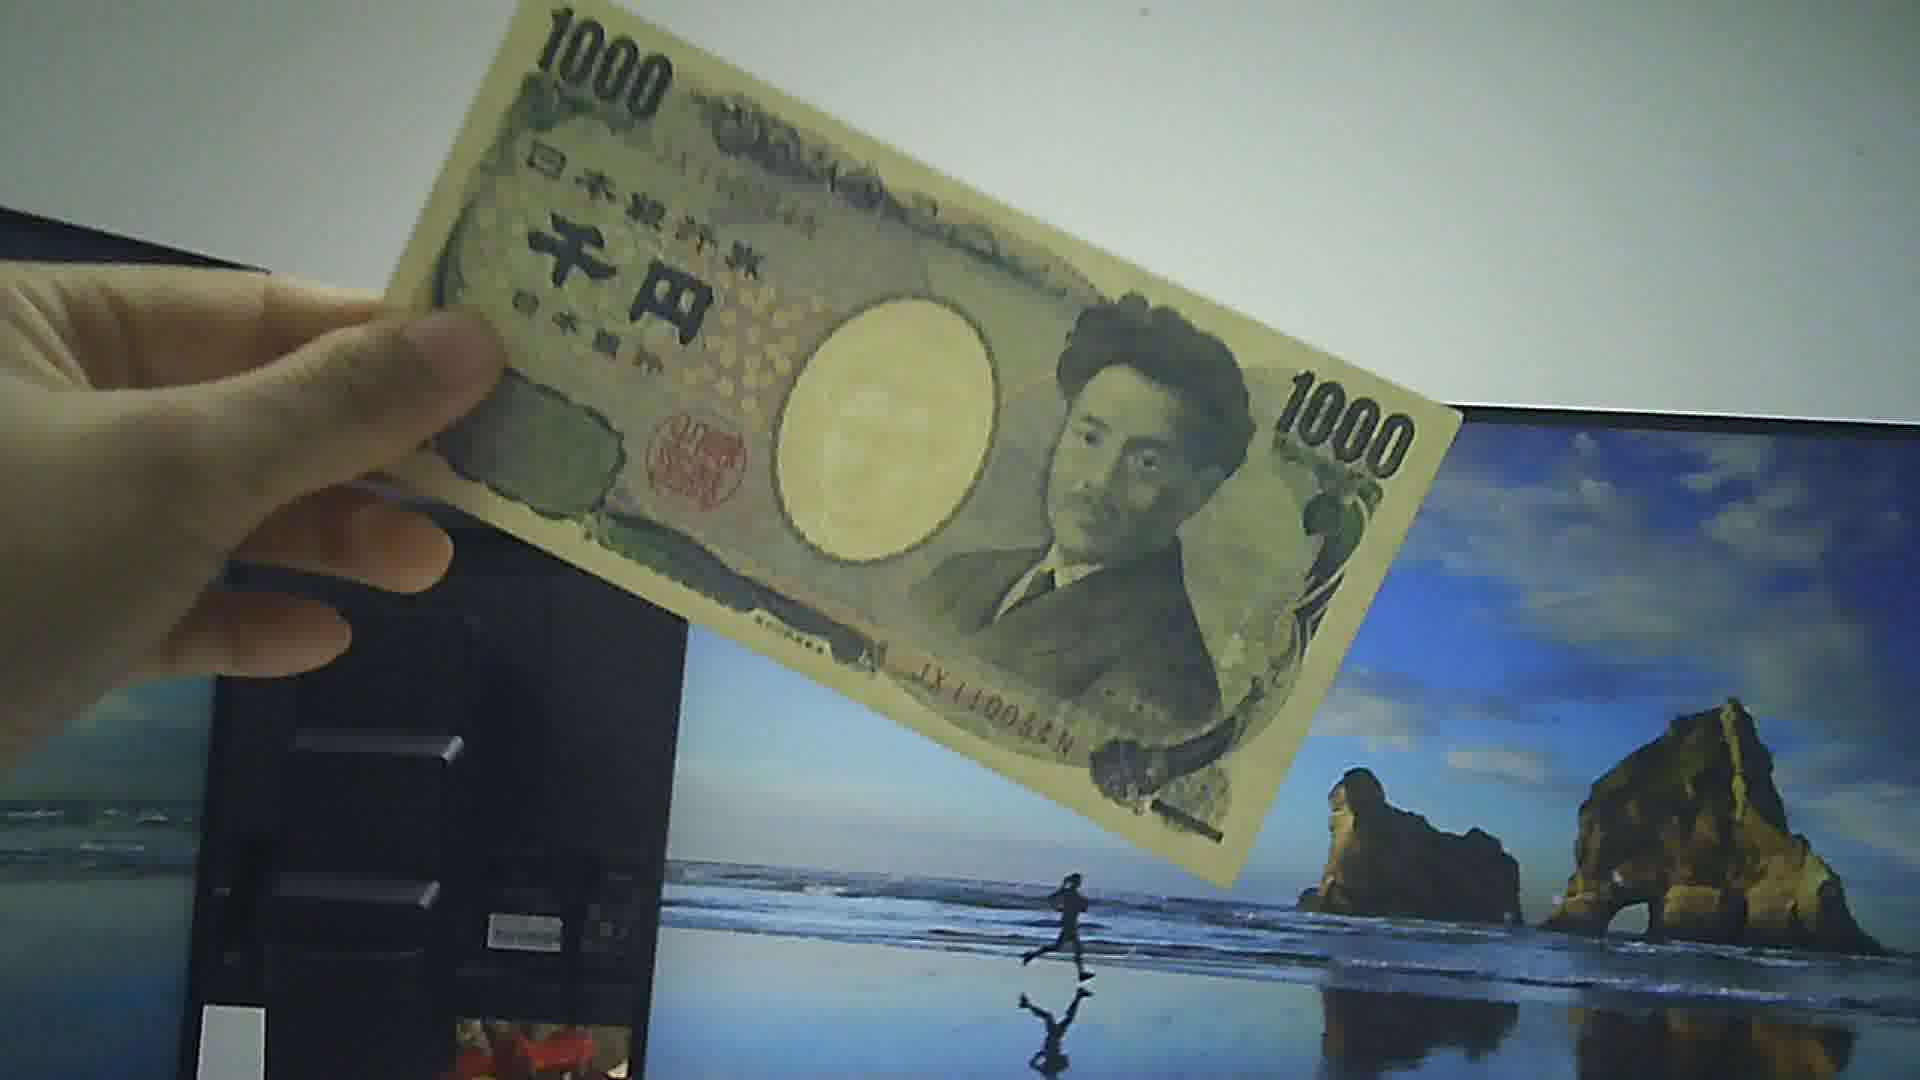1,000 Yen: (363, 13, 1465, 891)
